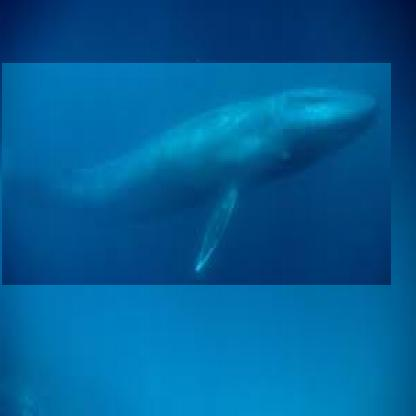blue_whale: (1, 62, 391, 285)
